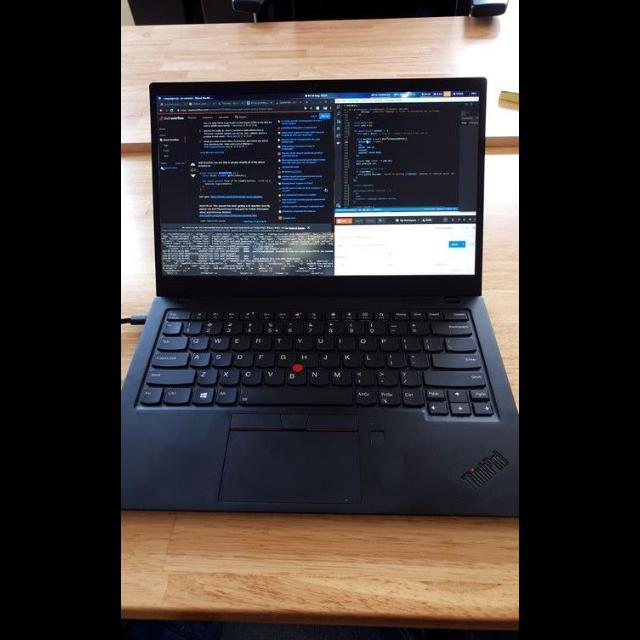laptop: (122, 77, 518, 515)
